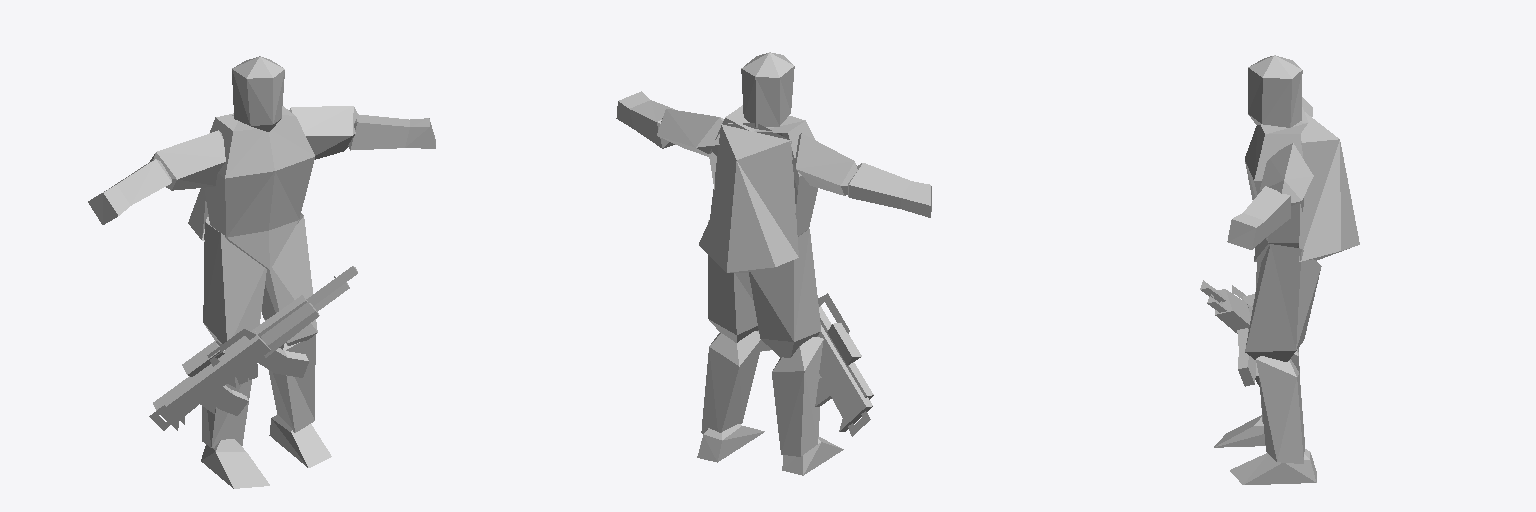
The model's file is npc_tpose.obj.
The picture shows the model from 3 angles: view 1: azimuth 30°, elevation 25°; view 2: azimuth 150°, elevation 25°; view 3: azimuth 270°, elevation 25°; orthographic projection.
Visible parts, largest first — view 1: mesh_2_ID168, mesh_1_ID177, oc_groza_ID78, head_ID141, mesh_0_ID186, lr_300_ID60, mesh_7_ID123, mesh_3_ID159, mesh_9_ID105, mesh_6_ID132, mesh_8_ID114, mesh_10_ID96 (+4 smaller); view 2: backpack_ID51, mesh_1_ID177, mesh_4_ID150, mesh_3_ID159, head_ID141, lr_300_ID60, mesh_0_ID186, mesh_8_ID114, mesh_7_ID123, mesh_2_ID168, mesh_6_ID132, mesh_9_ID105 (+3 smaller); view 3: mesh_0_ID186, backpack_ID51, mesh_3_ID159, head_ID141, mesh_2_ID168, mesh_9_ID105, mesh_11_ID87, mesh_6_ID132, lr_300_ID60, mesh_10_ID96, ak_74_ID69.
Boxes of the visible parts, box(x1,y1,x2,y2) form: mesh_2_ID168: box(204, 106, 314, 269); mesh_1_ID177: box(203, 222, 266, 348); oc_groza_ID78: box(162, 302, 314, 424); head_ID141: box(232, 56, 284, 131); mesh_0_ID186: box(262, 213, 317, 345); lr_300_ID60: box(153, 266, 357, 430); mesh_7_ID123: box(150, 130, 225, 190); mesh_3_ID159: box(268, 334, 315, 432); mesh_9_ID105: box(348, 114, 435, 150); mesh_6_ID132: box(289, 106, 359, 159); mesh_8_ID114: box(88, 159, 171, 224); mesh_10_ID96: box(201, 439, 269, 488); backpack_ID51: box(699, 123, 798, 272); mesh_1_ID177: box(749, 229, 820, 357); mesh_4_ID150: box(772, 337, 823, 456); mesh_3_ID159: box(701, 331, 762, 433); head_ID141: box(741, 52, 794, 127); lr_300_ID60: box(815, 323, 872, 431); mesh_0_ID186: box(708, 220, 758, 342); mesh_8_ID114: box(848, 163, 931, 217); mesh_7_ID123: box(792, 133, 857, 195); mesh_2_ID168: box(709, 105, 817, 235); mesh_6_ID132: box(657, 109, 732, 156); mesh_9_ID105: box(616, 91, 674, 148); mesh_0_ID186: box(1245, 244, 1321, 361); backpack_ID51: box(1299, 112, 1359, 261); mesh_3_ID159: box(1256, 356, 1304, 463); head_ID141: box(1248, 55, 1302, 127); mesh_2_ID168: box(1245, 107, 1308, 261); mesh_9_ID105: box(1227, 186, 1290, 249); mesh_11_ID87: box(1230, 449, 1316, 484); mesh_6_ID132: box(1259, 143, 1313, 205); lr_300_ID60: box(1200, 280, 1254, 333); mesh_10_ID96: box(1214, 415, 1265, 447); ak_74_ID69: box(1207, 294, 1255, 386).
Bounding box in the file's own units: 1.86 × 2.16 × 0.7772.